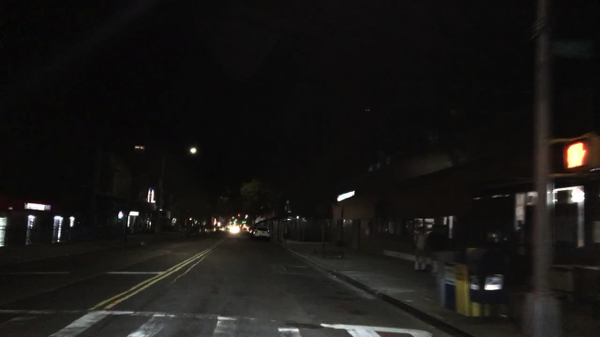car: (253, 227, 271, 240), (190, 224, 206, 235), (206, 225, 219, 234), (247, 226, 257, 236), (218, 225, 228, 232), (242, 224, 249, 231)
person: (427, 223, 445, 272), (412, 226, 430, 272)
traffic light: (562, 133, 598, 171), (237, 213, 241, 218), (242, 221, 246, 224)
traffic sign: (551, 42, 594, 57), (531, 15, 545, 37)
